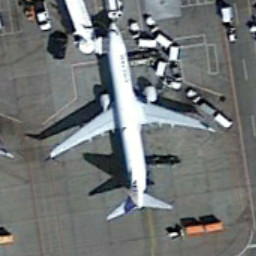Airplane: (39, 17, 219, 227)
